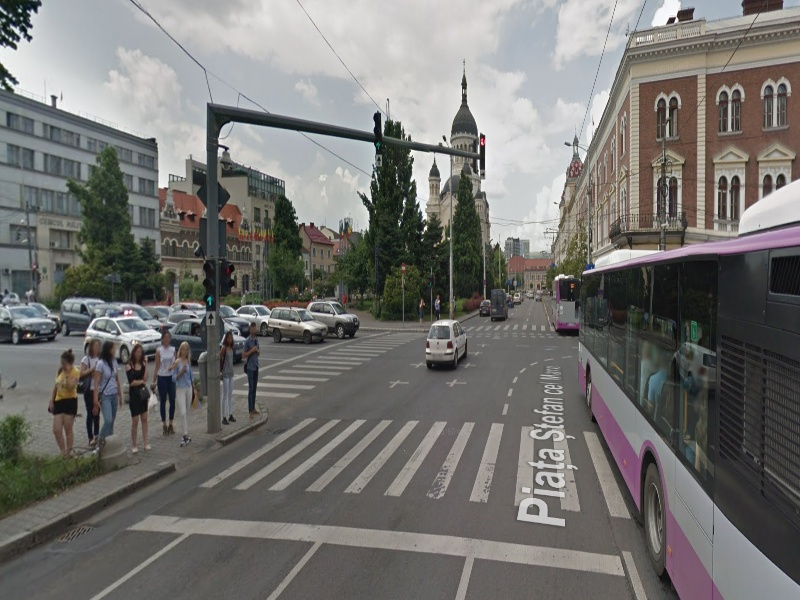crosswalk: (127, 414, 636, 579)
pedestrian: (51, 347, 83, 466), (127, 343, 153, 457), (243, 320, 264, 421), (219, 329, 239, 431)
semaphore: (197, 254, 238, 313), (371, 111, 388, 169), (472, 132, 489, 184)
